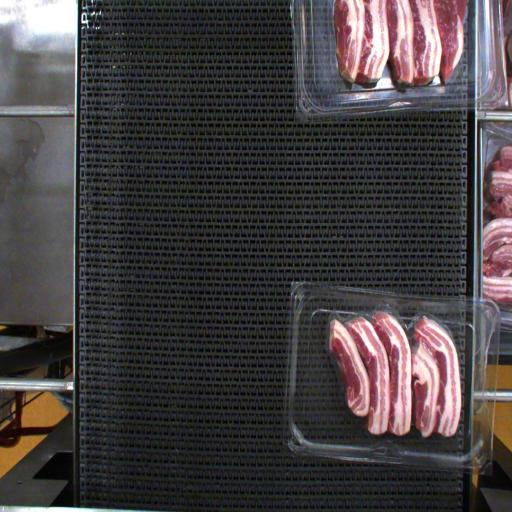unsealed: (316, 292, 462, 356)
